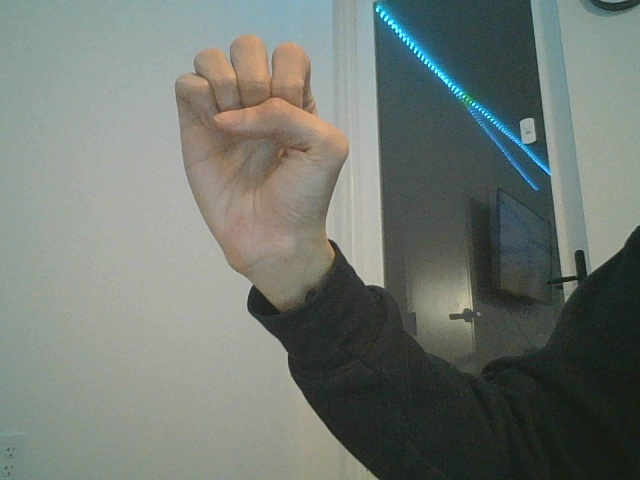e: (172, 37, 351, 289)
